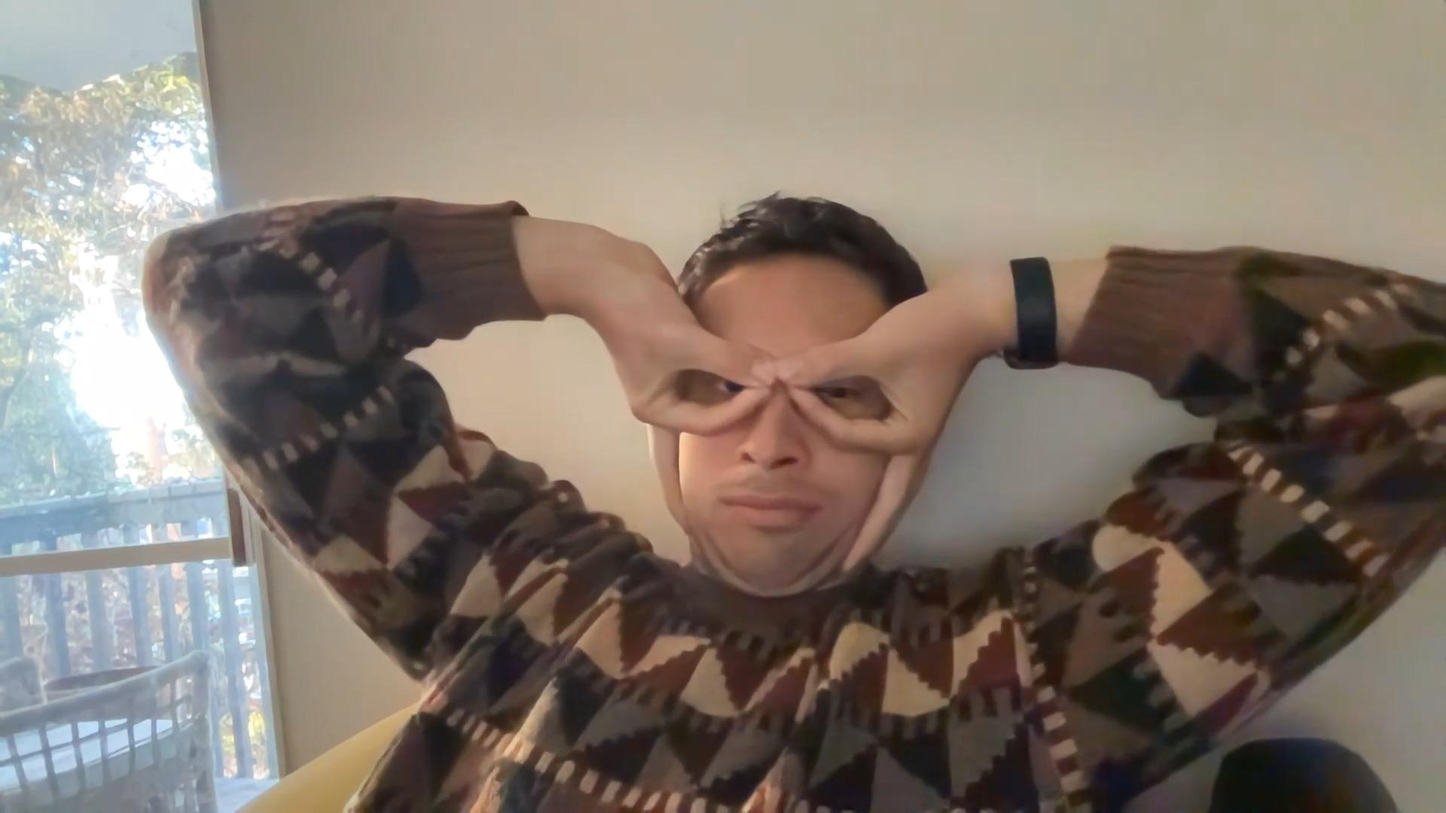face: (679, 279, 894, 598)
